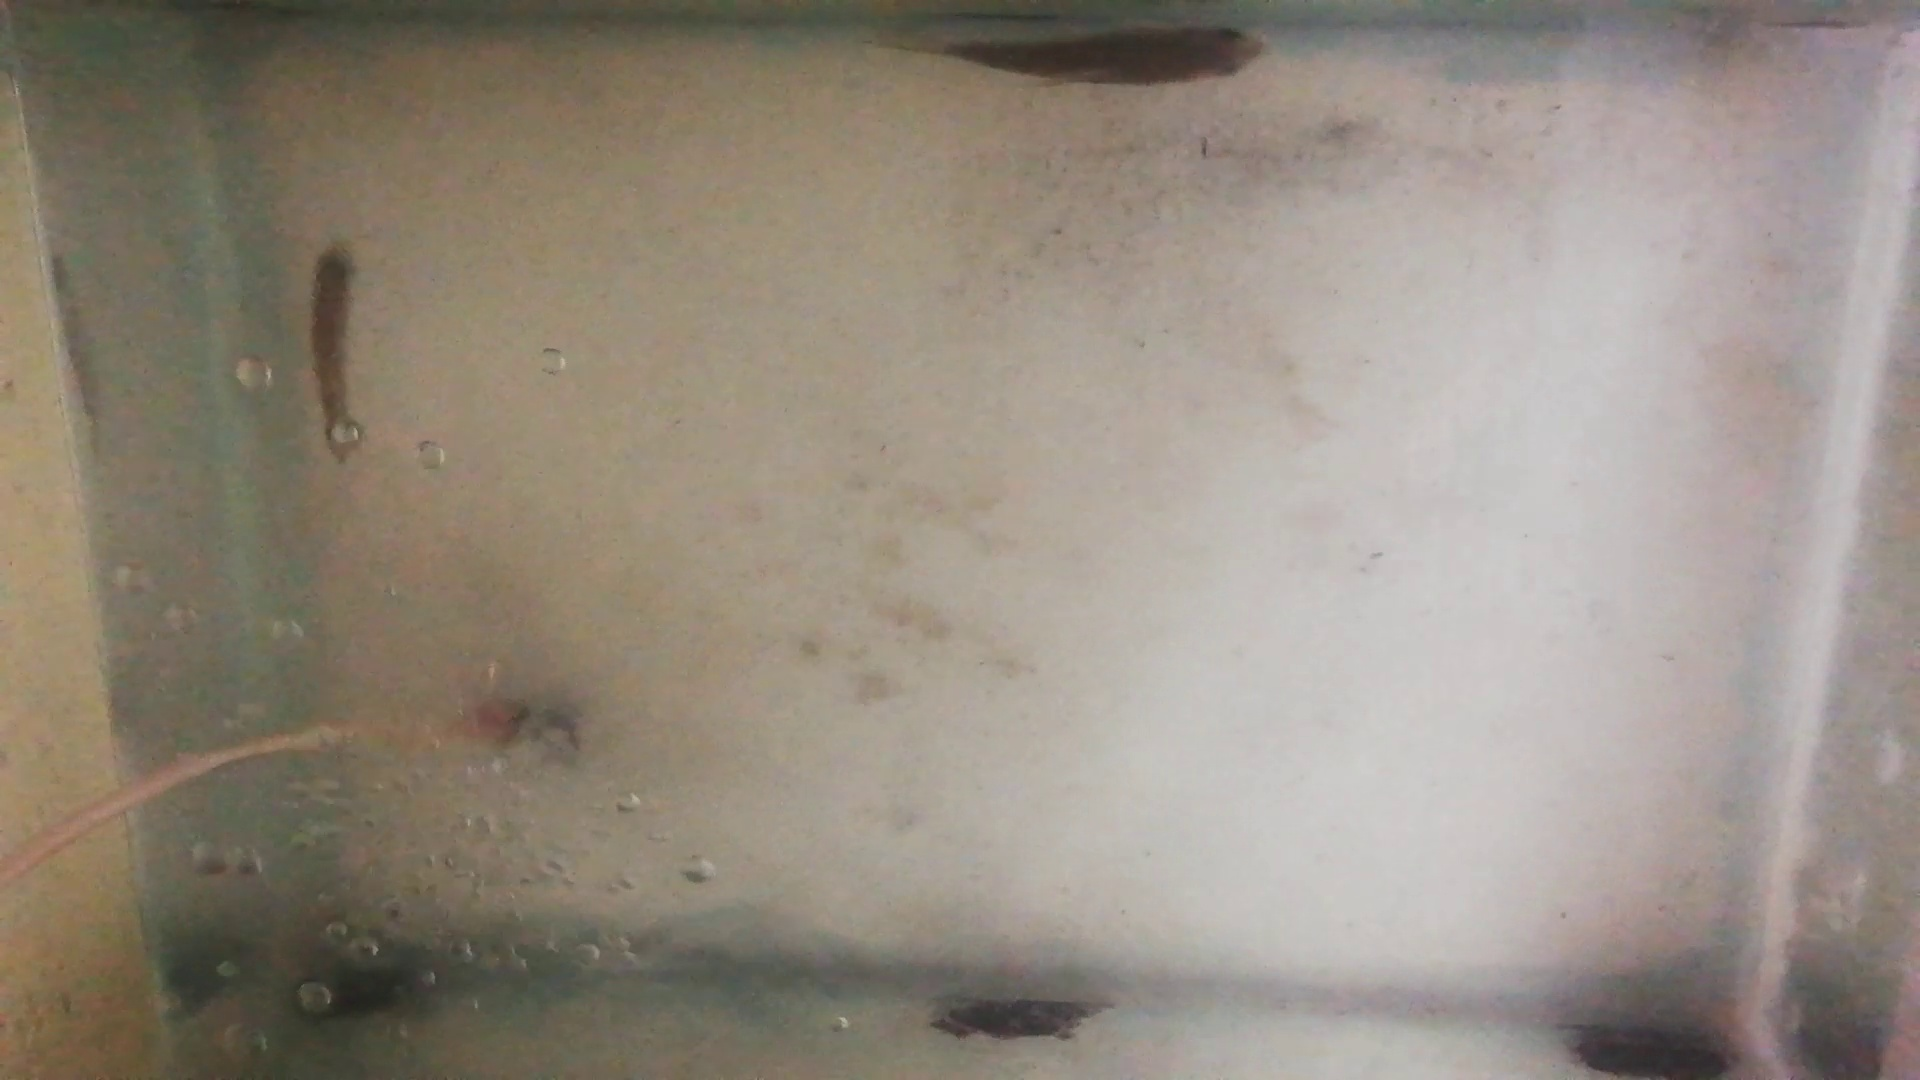fish: (938, 22, 1270, 86), (305, 240, 361, 464)
